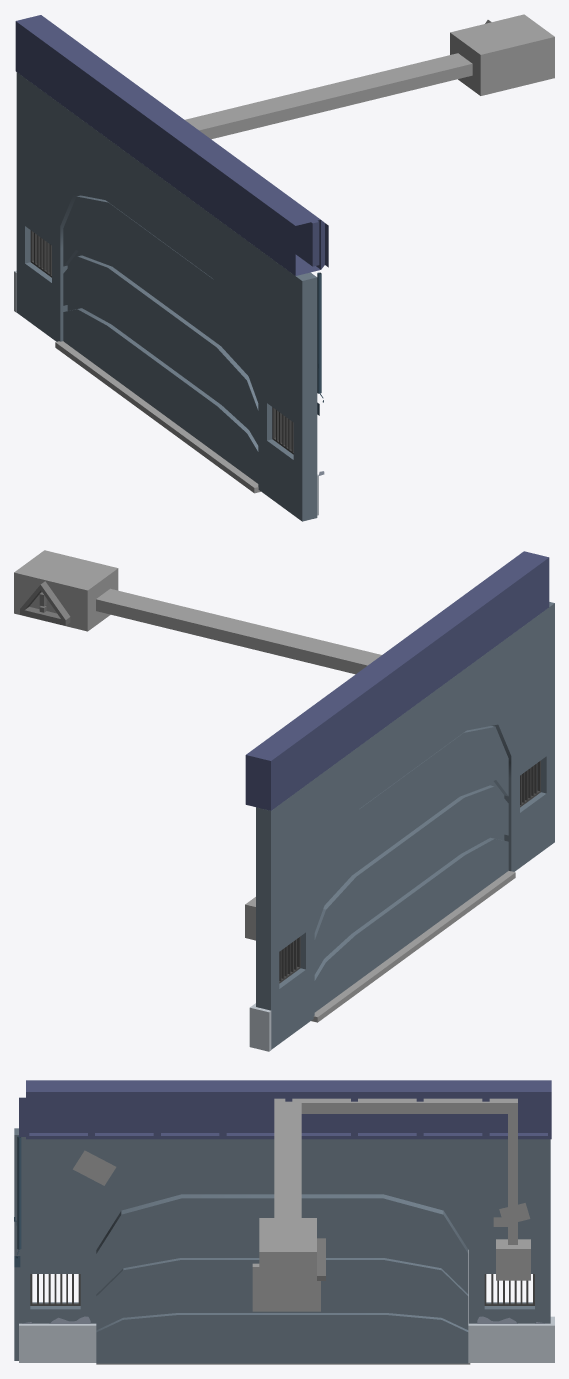
File: porte.fbx
3 renders of one model, top to bottom at view 1: azimuth 30°, elevation 25°; view 2: azimuth 150°, elevation 25°; view 3: azimuth 270°, elevation 25°, orthographic. The views are drawn at different scales.
Parts seen in each view (by area): view 1: cadre, porte, serrurehaut; view 2: cadre, porte, serrurehaut; view 3: cadre, porte, serrurehaut, serrure, verouillage.
Part boxes in pixels (x1,y1,x2,y2): cadre: [14, 15, 328, 521]; porte: [63, 195, 258, 483]; serrurehaut: [185, 14, 554, 139]; cadre: [245, 551, 554, 1051]; porte: [314, 726, 508, 1012]; serrurehaut: [14, 550, 381, 674]; cadre: [14, 1080, 554, 1364]; porte: [96, 1194, 468, 1363]; serrurehaut: [259, 1098, 517, 1290]; serrure: [252, 1263, 320, 1311]; verouillage: [496, 1239, 530, 1280].
Bounding box in the file's own units: 509 × 375 × 656.
